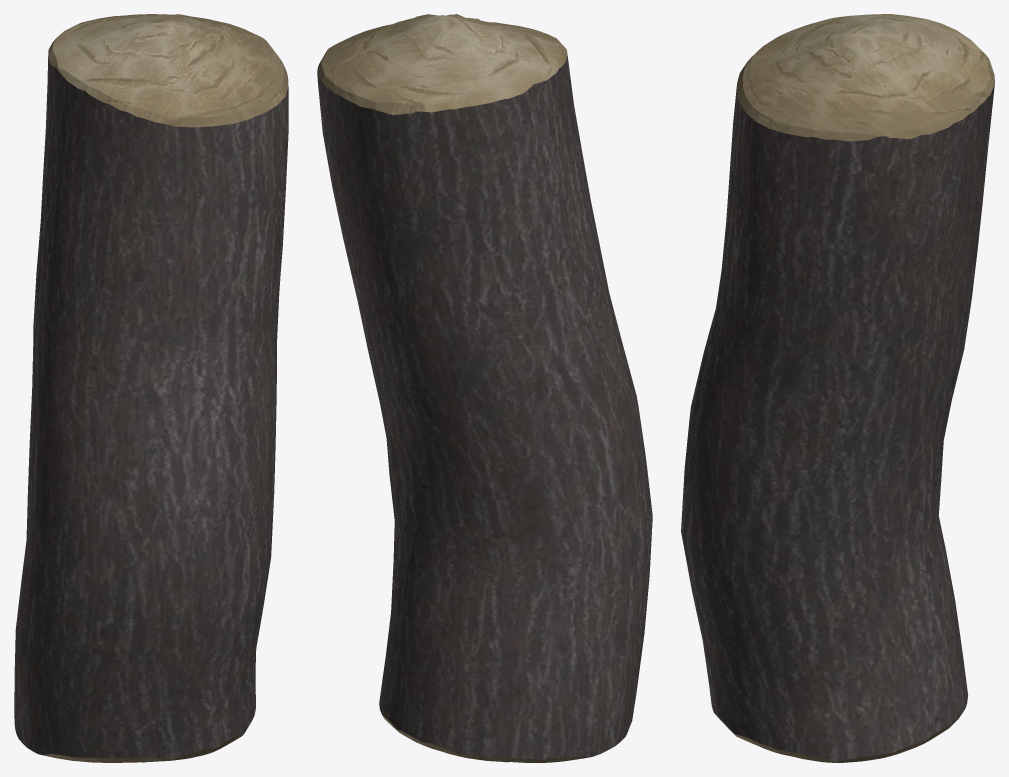
The picture shows the model from 3 angles, left to right: view 1: azimuth 30°, elevation 25°; view 2: azimuth 150°, elevation 25°; view 3: azimuth 270°, elevation 25°; orthographic projection. The views are drawn at different scales.
Visible parts, largest first — view 1: SM_BM_Oak_Tree_02_quarter_03_LOD0; view 2: SM_BM_Oak_Tree_02_quarter_03_LOD0; view 3: SM_BM_Oak_Tree_02_quarter_03_LOD0.
Boxes of the visible parts, box(x1,y1,x2,y2) form: SM_BM_Oak_Tree_02_quarter_03_LOD0: box(14, 14, 288, 762); SM_BM_Oak_Tree_02_quarter_03_LOD0: box(317, 14, 652, 762); SM_BM_Oak_Tree_02_quarter_03_LOD0: box(681, 14, 994, 762).
Size of the model in its own units: 1.13 by 2.92 by 1.11.
1 material, 1 textured.
